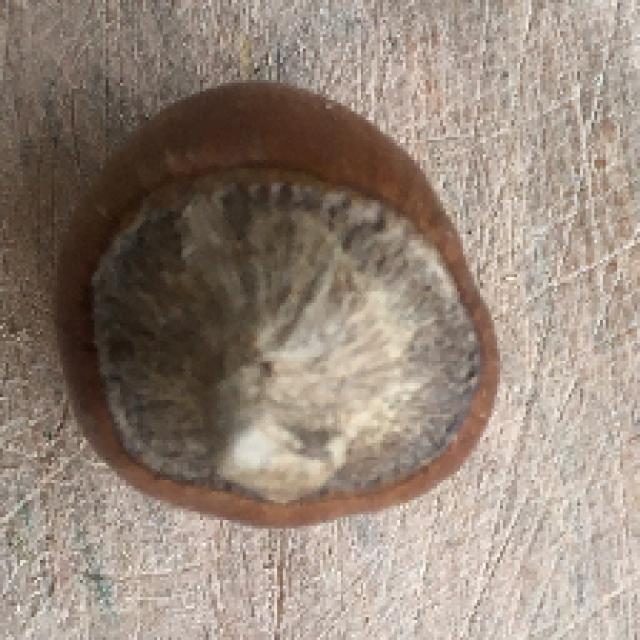damagedHazelnut: (49, 74, 510, 539)
